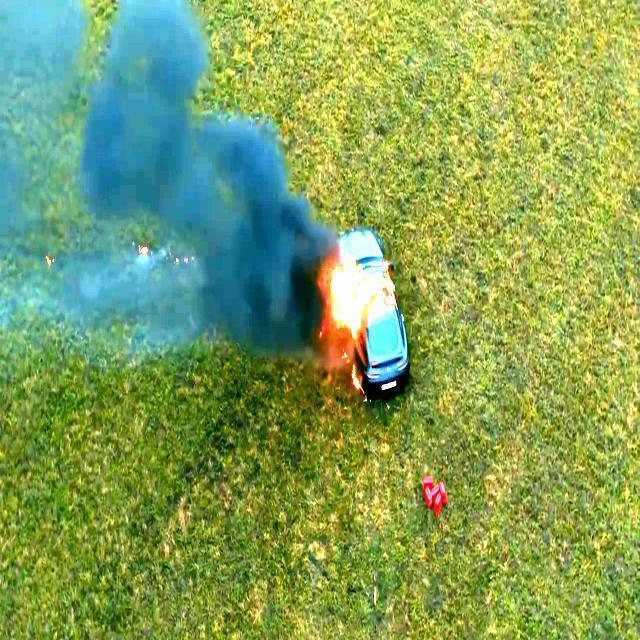Fire: (328, 253, 370, 336), (369, 254, 398, 304), (348, 362, 364, 395)
Smoke: (0, 0, 322, 352)
